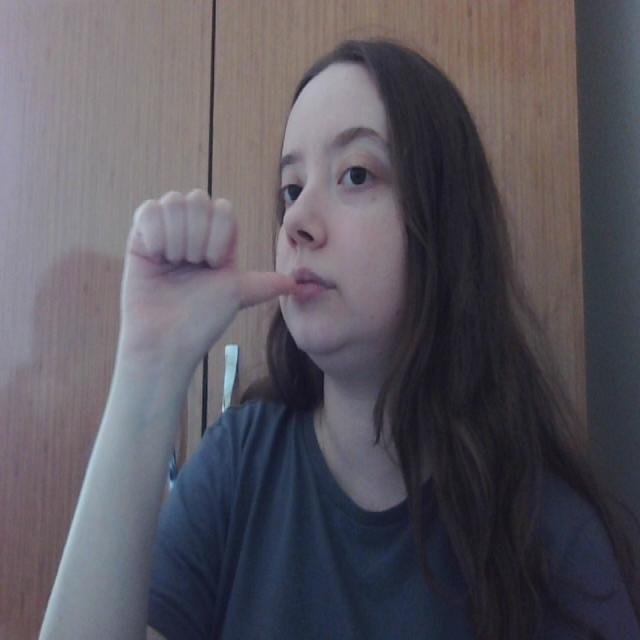icmek: (43, 190, 316, 358)
